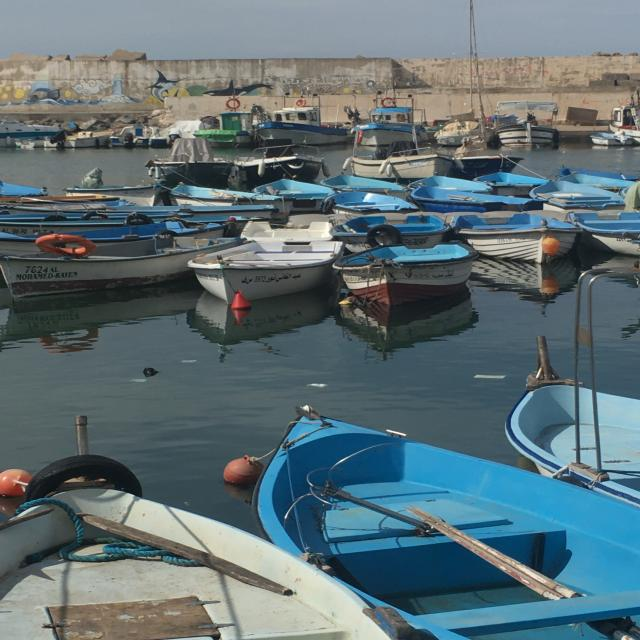Plastic: (472, 372, 506, 380), (128, 376, 150, 384), (179, 357, 199, 365), (307, 382, 329, 389)
Plastic bag: (143, 366, 160, 379)
